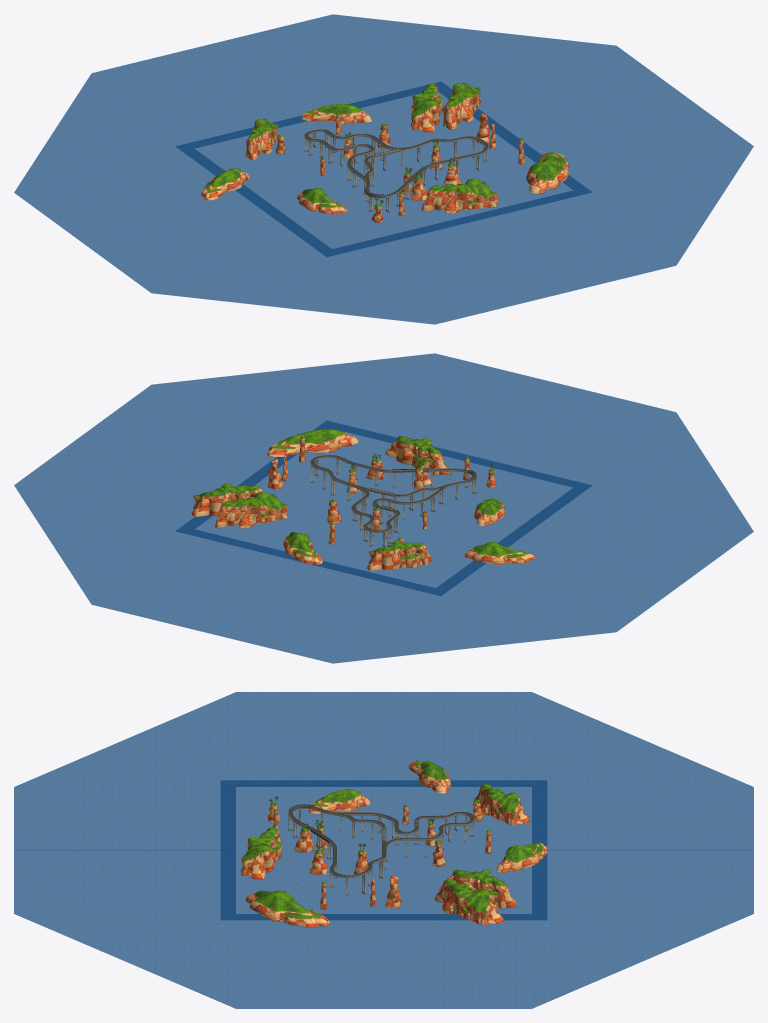
3 views of the same model, one above another, from view 1: azimuth 30°, elevation 25°; view 2: azimuth 150°, elevation 25°; view 3: azimuth 270°, elevation 25° (orthographic). The views are drawn at different scales.
Parts seen in each view (by area): view 1: twn_d_sea02xno0_3, twn_d_sea02xno1_4, twn_d_sea01xno0_6, twn_d_farcliff_nos_xno1_19, twn_d_farcliff_nos_xno0_18, twn_d_cliffxno0_29, twn_d_pillarxno0_10, twn_d_circuitxno0_33, twn_d_circuitxno2_34; view 2: twn_d_sea02xno0_3, twn_d_sea02xno1_4, twn_d_sea01xno0_6, twn_d_farcliff_nos_xno1_19, twn_d_farcliff_nos_xno0_18, twn_d_cliffxno0_29, twn_d_pillarxno0_10, twn_d_circuitxno0_33, twn_d_circuitxno2_34; view 3: twn_d_sea02xno0_3, twn_d_sea02xno1_4, twn_d_sea01xno0_6, twn_d_farcliff_nos_xno1_19, twn_d_farcliff_nos_xno0_18, twn_d_cliffxno0_29, twn_d_pillarxno0_10, twn_d_circuitxno0_33, twn_d_circuitxno2_34.
Part boxes in pixels (box(x1,y1,x2,y2)): twn_d_sea02xno0_3: box(74, 39, 693, 299); twn_d_sea02xno1_4: box(14, 14, 753, 324); twn_d_sea01xno0_6: box(175, 81, 592, 257); twn_d_farcliff_nos_xno1_19: box(201, 82, 568, 214); twn_d_farcliff_nos_xno0_18: box(210, 89, 569, 213); twn_d_cliffxno0_29: box(276, 113, 525, 222); twn_d_pillarxno0_10: box(304, 132, 488, 211); twn_d_circuitxno0_33: box(304, 129, 488, 198); twn_d_circuitxno2_34: box(304, 129, 488, 196); twn_d_sea02xno0_3: box(74, 378, 693, 638); twn_d_sea02xno1_4: box(14, 353, 753, 663); twn_d_sea01xno0_6: box(175, 420, 592, 596); twn_d_farcliff_nos_xno1_19: box(193, 428, 535, 564); twn_d_farcliff_nos_xno0_18: box(191, 434, 506, 570); twn_d_cliffxno0_29: box(268, 440, 496, 544); twn_d_pillarxno0_10: box(310, 458, 476, 546); twn_d_circuitxno0_33: box(310, 455, 476, 532); twn_d_circuitxno2_34: box(310, 455, 475, 531); twn_d_sea02xno0_3: box(88, 723, 679, 977); twn_d_sea02xno1_4: box(14, 692, 753, 1008); twn_d_sea01xno0_6: box(220, 780, 547, 920); twn_d_farcliff_nos_xno1_19: box(241, 760, 548, 927); twn_d_farcliff_nos_xno0_18: box(241, 766, 539, 925); twn_d_cliffxno0_29: box(267, 803, 491, 909); twn_d_pillarxno0_10: box(288, 808, 474, 895); twn_d_circuitxno0_33: box(288, 805, 474, 878); twn_d_circuitxno2_34: box(288, 806, 473, 876).
Size of the model in its own units: 3480 by 153 by 3436.
22 materials, 22 textured.
